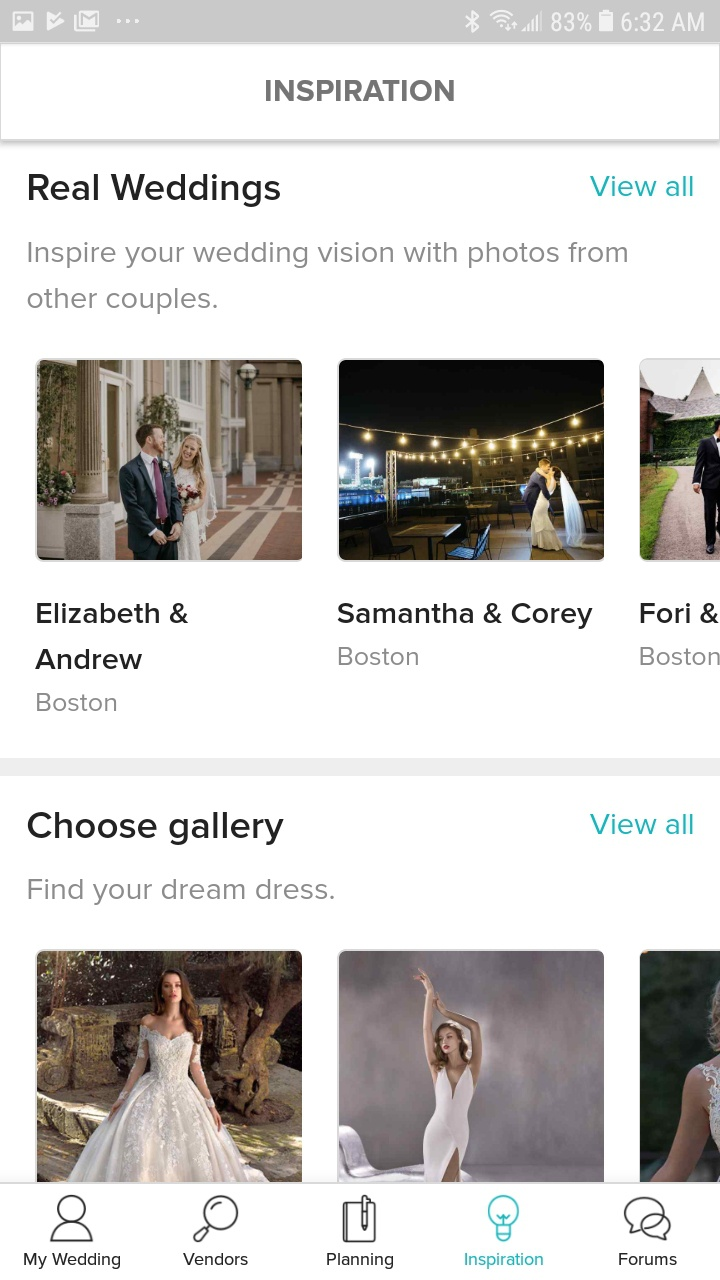Icon: (193, 1195, 239, 1243), (51, 1194, 95, 1243), (624, 1196, 671, 1241), (342, 1194, 377, 1243)
Image: (337, 948, 605, 1182), (36, 949, 303, 1182), (36, 358, 303, 563), (338, 359, 605, 563), (640, 949, 720, 1182), (639, 358, 720, 563), (488, 1194, 520, 1242)
Text: (28, 242, 628, 315), (36, 602, 190, 670), (28, 811, 285, 846), (29, 174, 281, 208), (29, 878, 335, 906), (337, 602, 593, 630), (266, 80, 455, 102), (589, 176, 693, 198), (589, 813, 693, 835), (640, 603, 720, 624), (24, 1253, 121, 1270), (339, 646, 419, 666), (38, 692, 118, 712), (640, 647, 720, 666), (465, 1253, 544, 1270), (327, 1253, 394, 1270), (183, 1252, 249, 1266), (618, 1253, 677, 1266)
UpperTaskBar: (1, 1, 720, 43)
